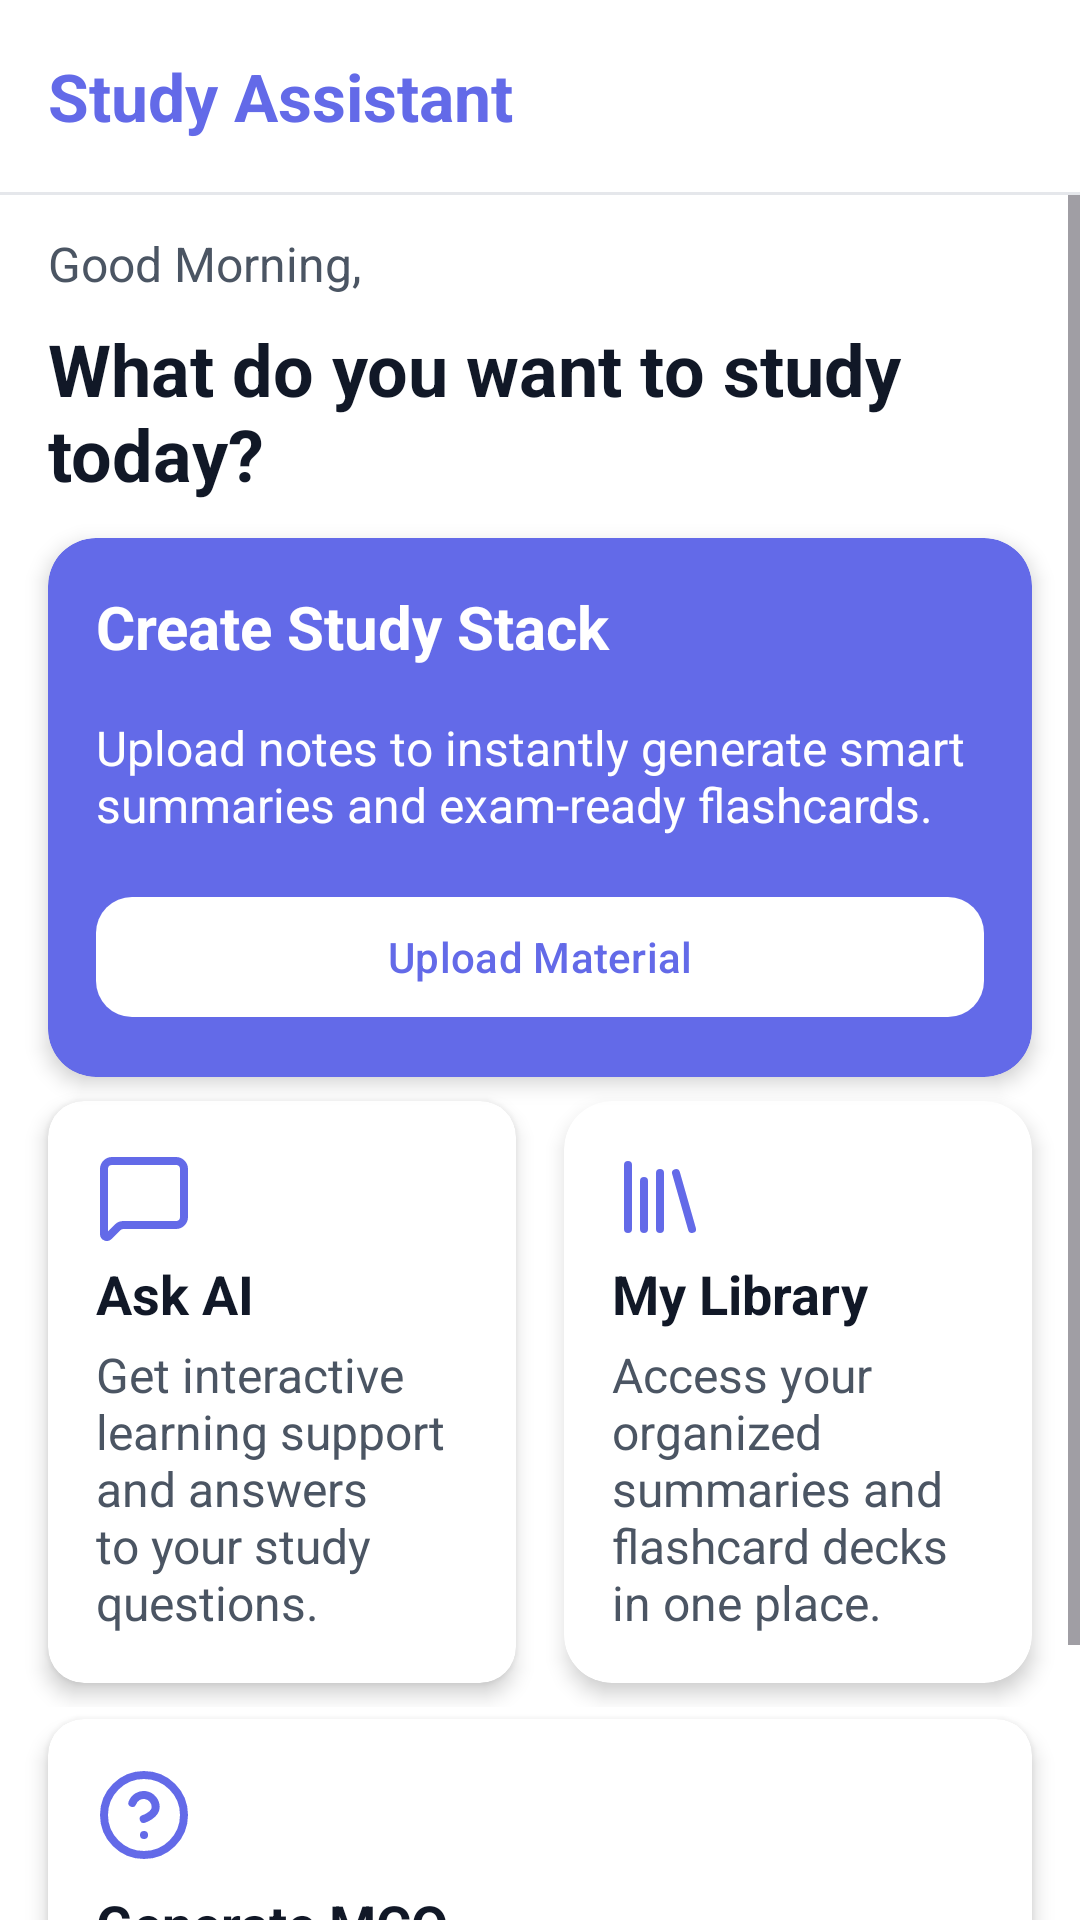

Screen size 1080w x 1920h. Icon name, then its center in pixels as [x,y]:
chat: [144,1199]
help: [144,1815]
